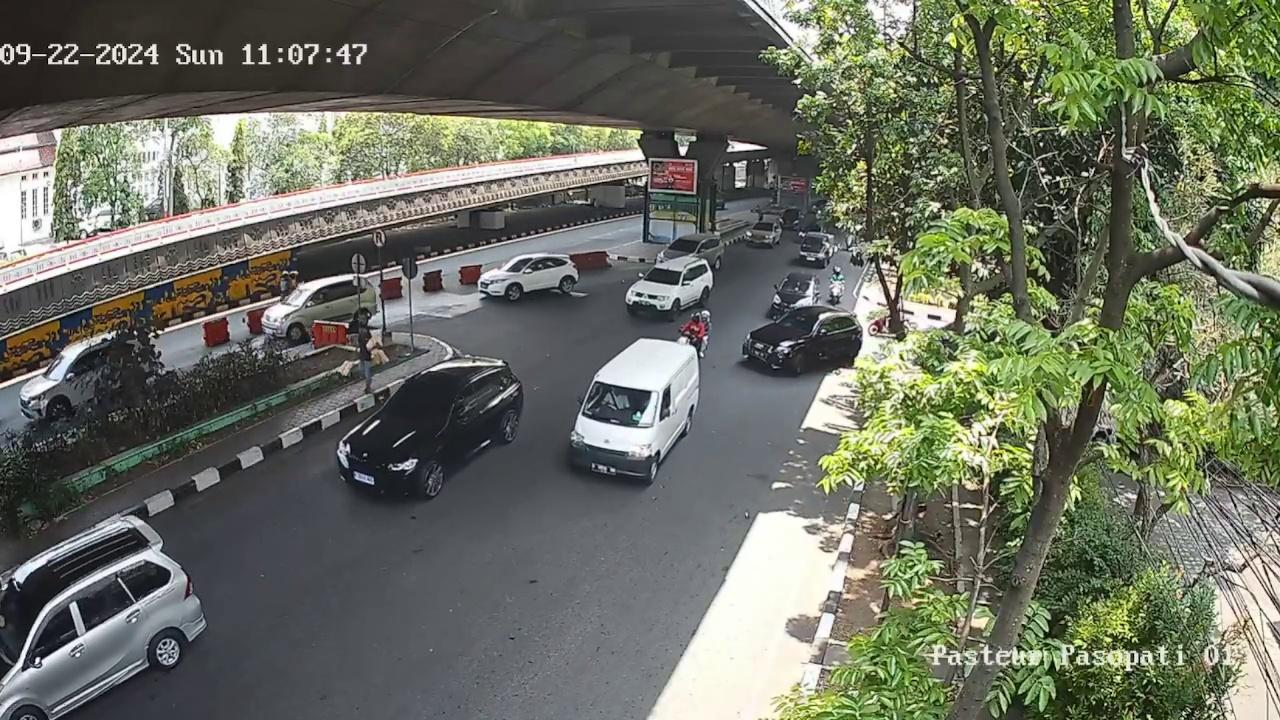pakai: (601, 385, 631, 410)
windshield: (584, 380, 663, 423), (380, 385, 454, 424), (642, 270, 683, 287)
